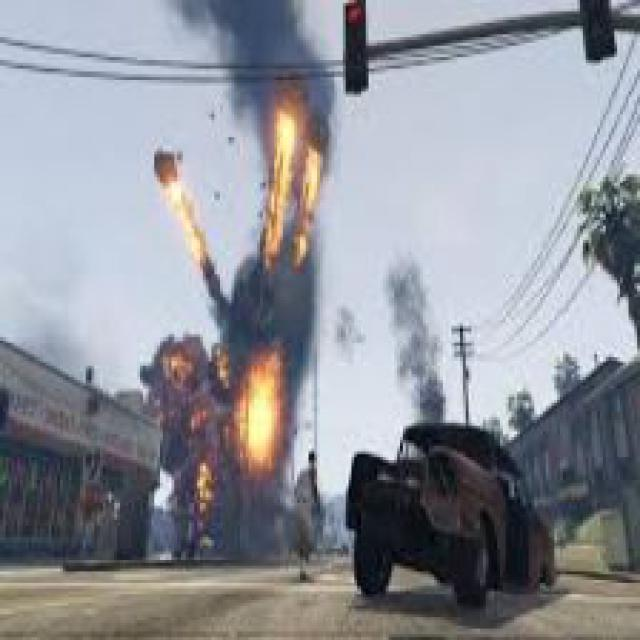fire: (166, 297, 303, 557), (266, 77, 328, 274), (157, 166, 226, 271)
